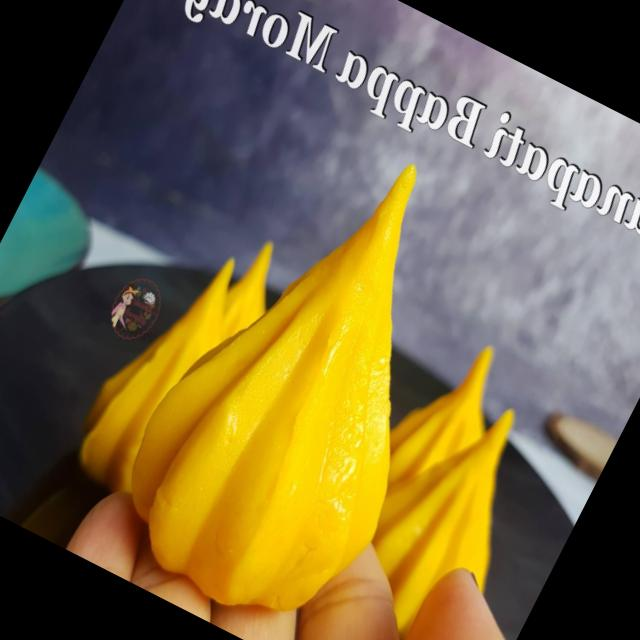modak: (100, 122, 478, 580)
